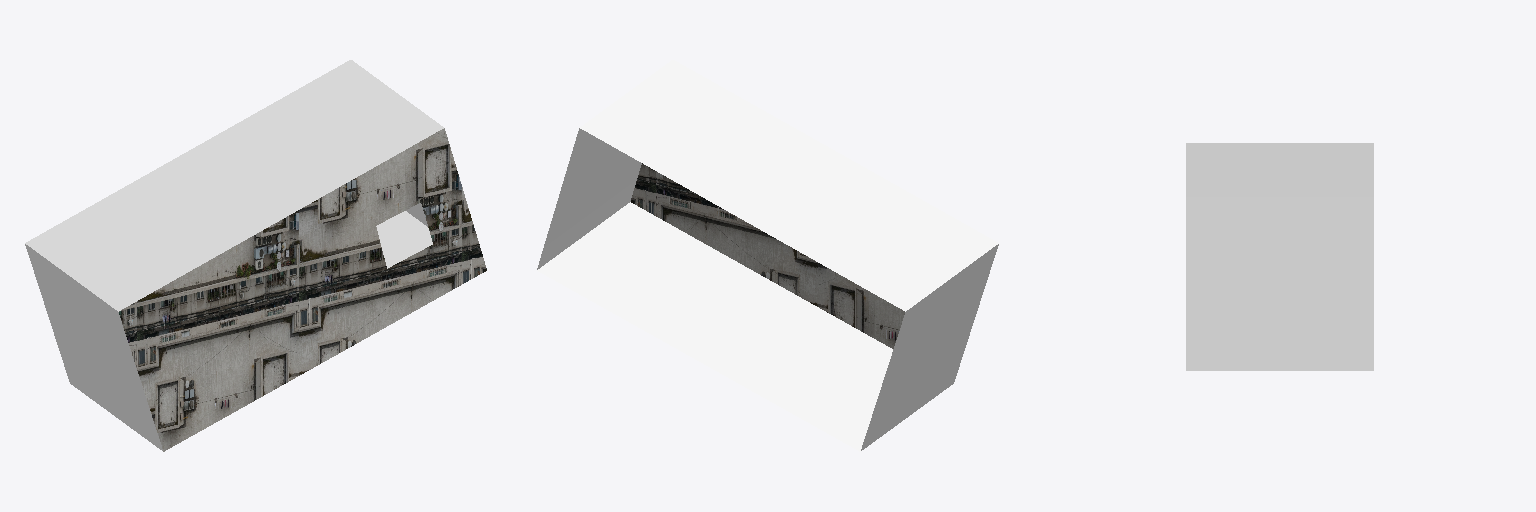
The picture shows the model from 3 angles: view 1: azimuth 30°, elevation 25°; view 2: azimuth 150°, elevation 25°; view 3: azimuth 270°, elevation 25°; orthographic projection.
Parts seen in each view (by area): view 1: Building; view 2: Building; view 3: Building.
Boxes of the visible parts, x1,y1,x2,y2 form: Building: [25, 60, 486, 451]; Building: [537, 60, 998, 451]; Building: [1186, 143, 1373, 370].
Bounding box in the file's own units: 27.29 × 18.07 × 12.
Materials: 2 (1 with a texture image).